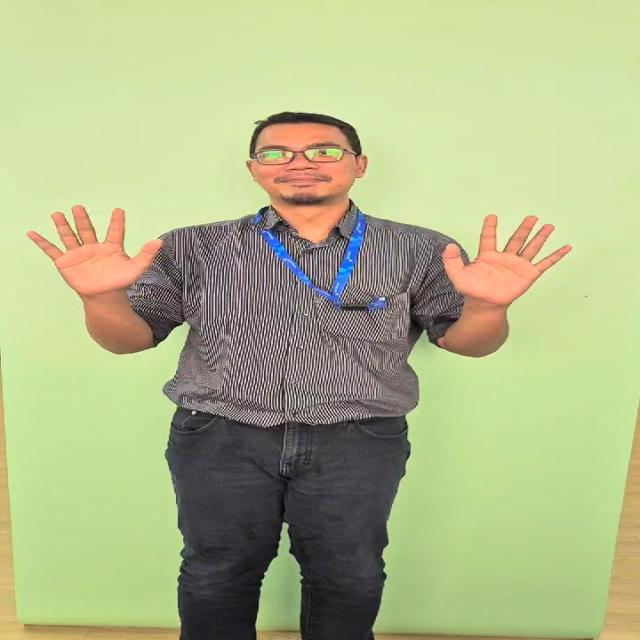goggles: (250, 146, 358, 164)
